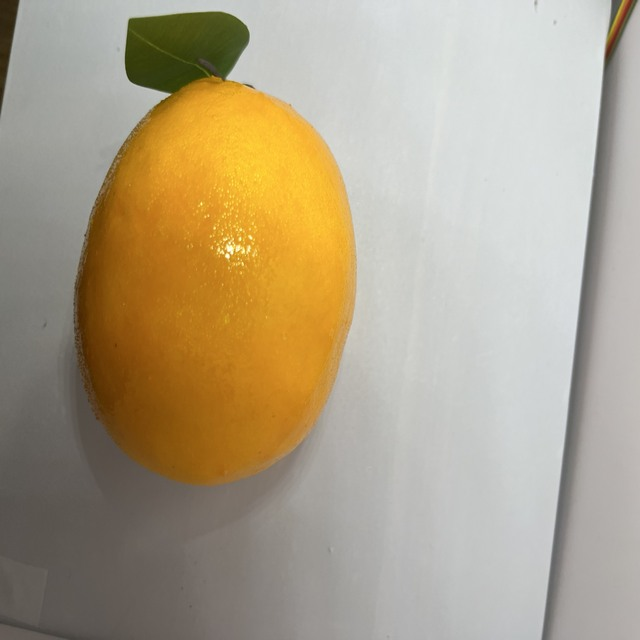Cam vang: (62, 73, 364, 495)
